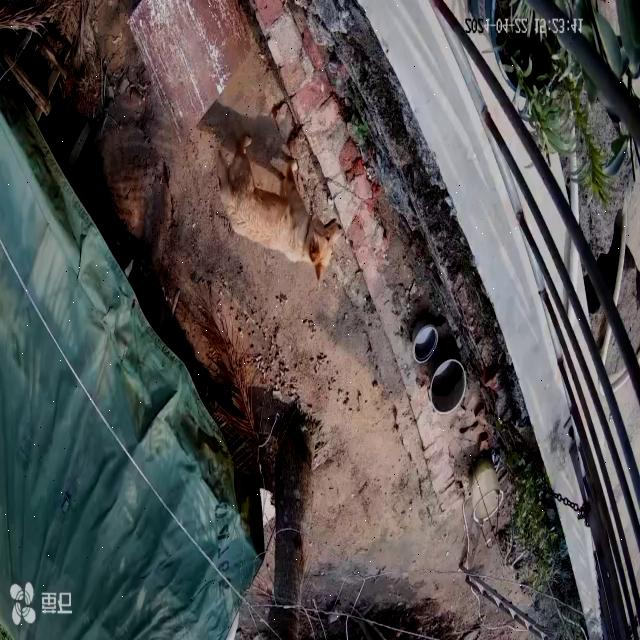dog: (216, 136, 344, 284)
